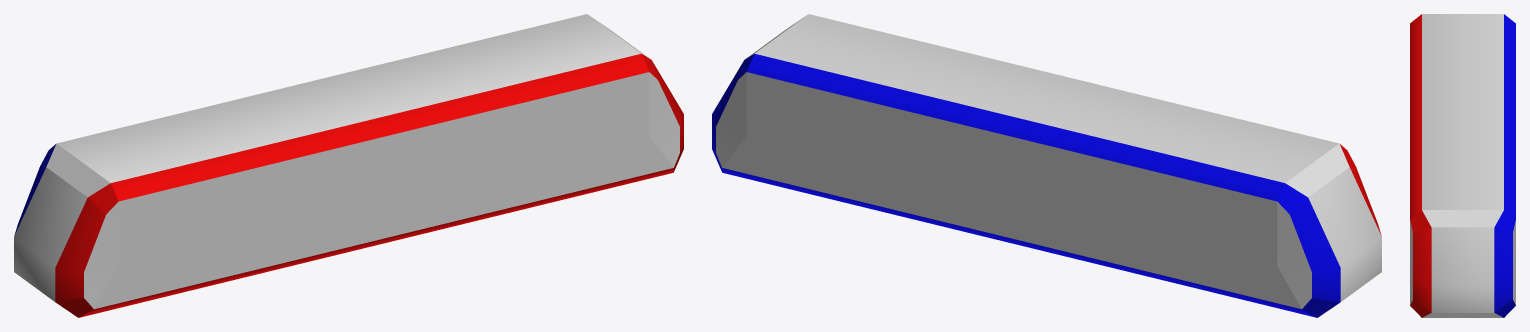
The model's file is LightRail.fbx.
The picture shows the model from 3 angles, left to right: view 1: azimuth 30°, elevation 25°; view 2: azimuth 150°, elevation 25°; view 3: azimuth 270°, elevation 25°; orthographic projection. The views are drawn at different scales.
Visible parts, largest first — view 1: LightRail; view 2: LightRail; view 3: LightRail.
Boxes of the visible parts, bbox=[...] form: LightRail: bbox=[14, 14, 683, 317]; LightRail: bbox=[712, 14, 1381, 317]; LightRail: bbox=[1410, 14, 1515, 317].
Size of the model in its own units: 83.2 by 16.06 by 16.06.
